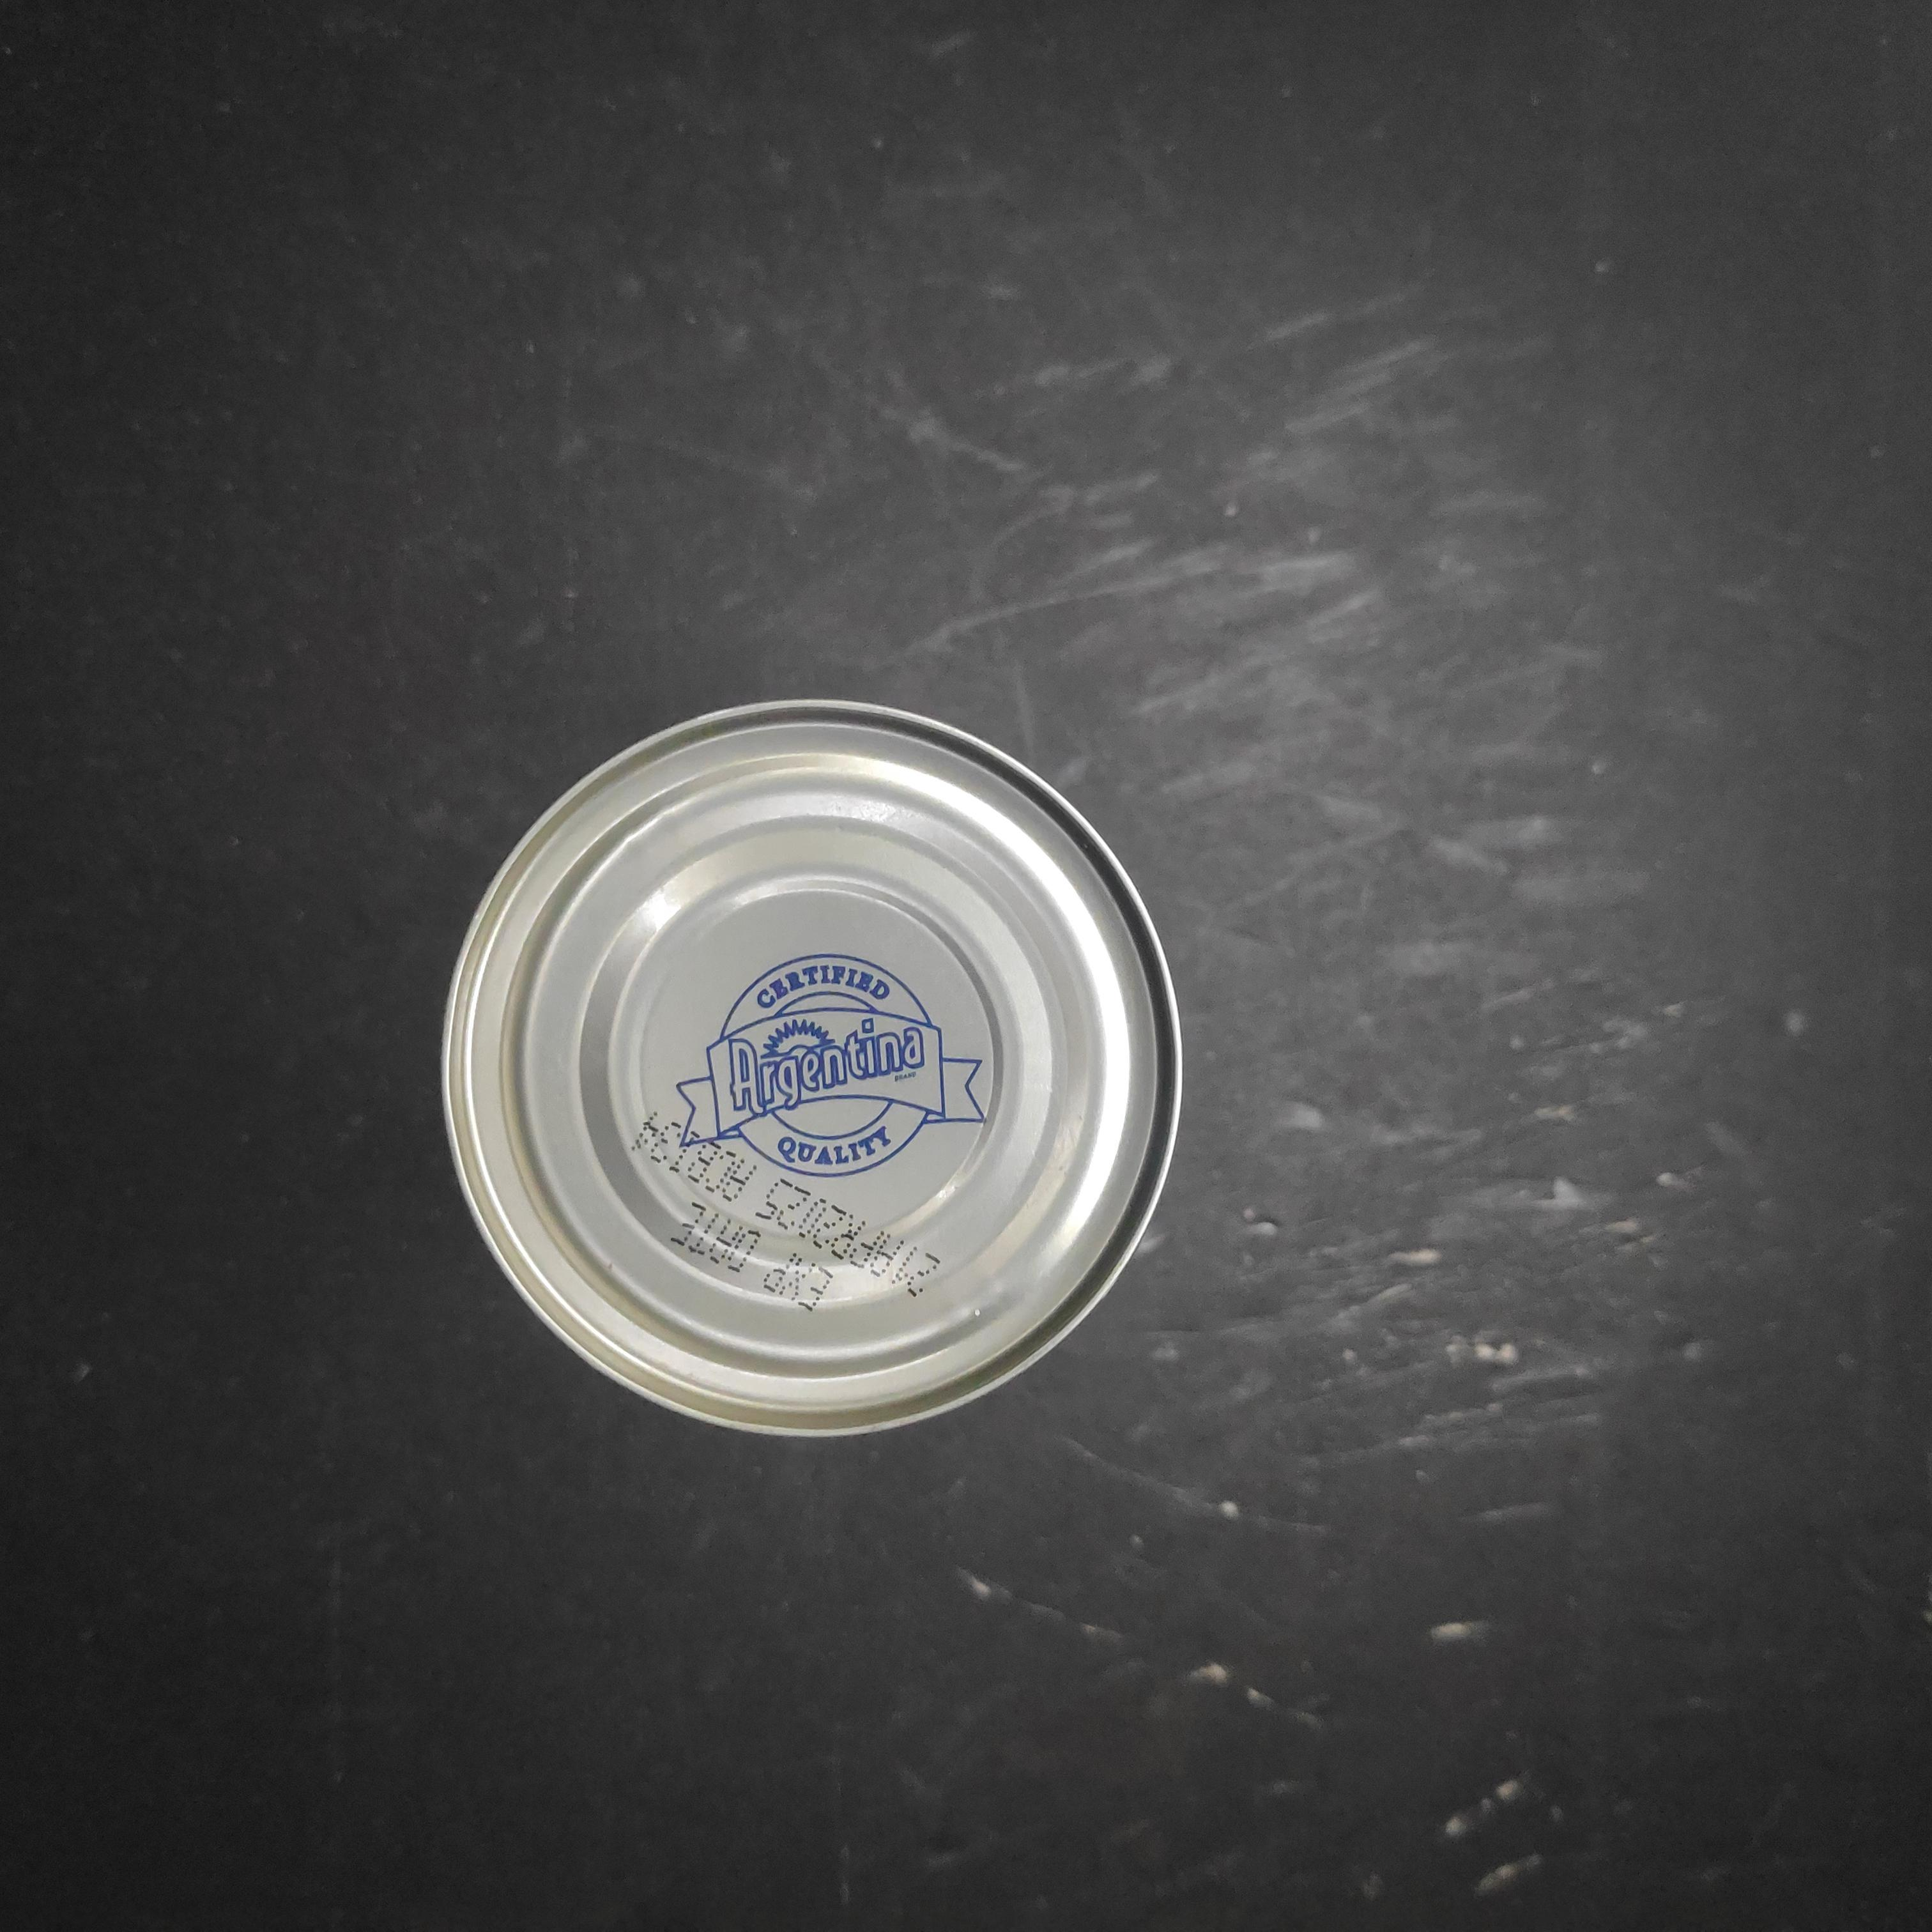No defect: (490, 435, 1244, 1198)
